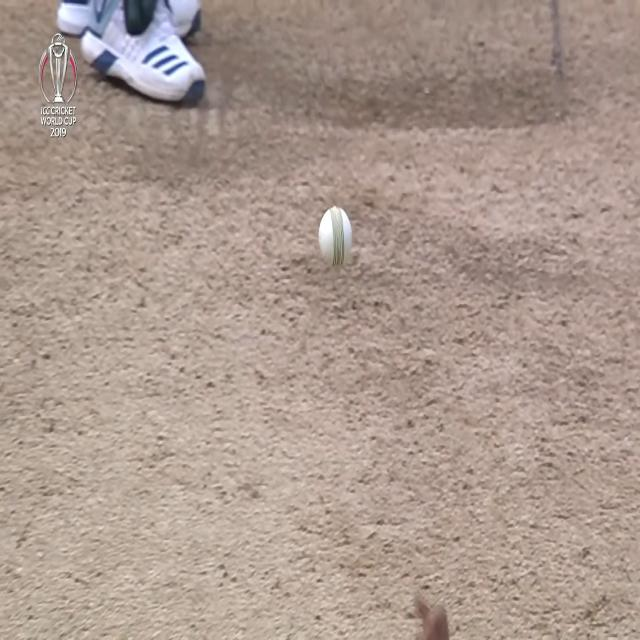Cricket ball: (317, 205, 354, 269)
